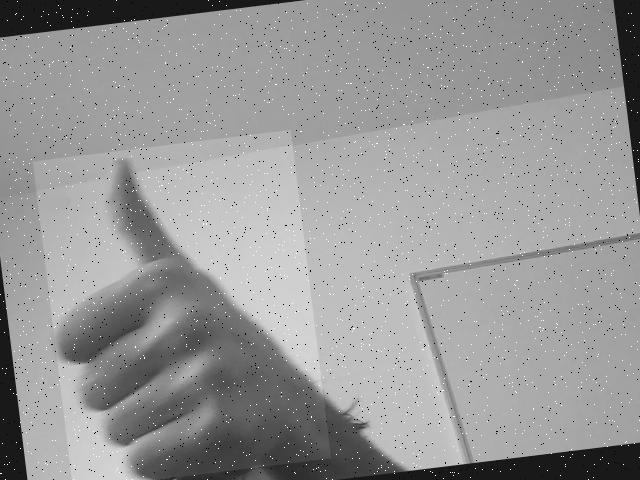good: (57, 150, 328, 479)
